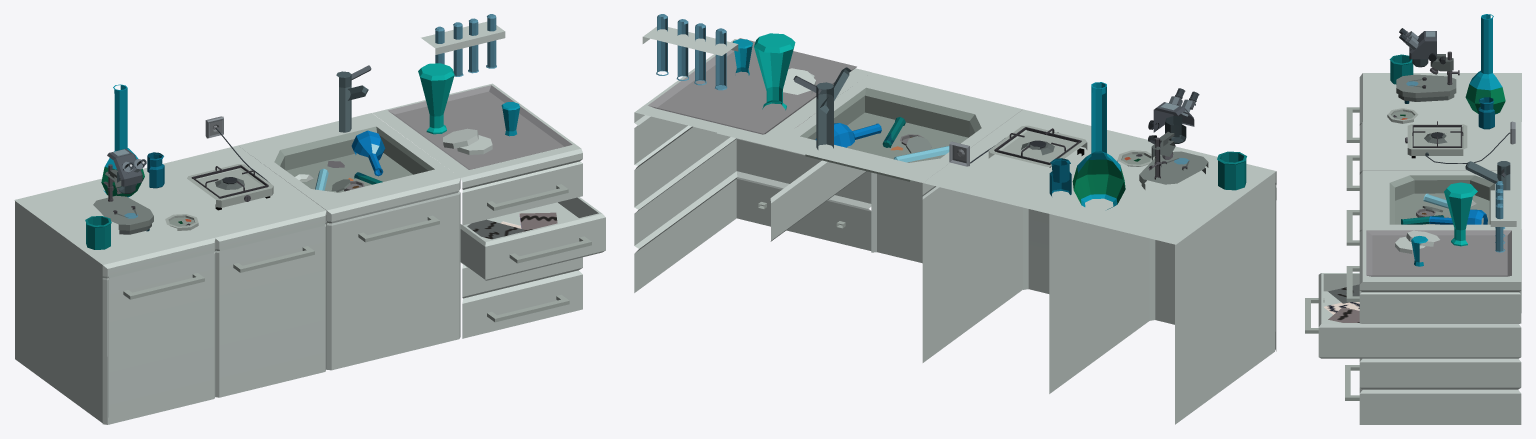
Rendered from Shelf.glb.
3 views of the same model, side by side, from view 1: azimuth 30°, elevation 25°; view 2: azimuth 150°, elevation 25°; view 3: azimuth 270°, elevation 25° (orthographic). The views are drawn at different scales.
Parts seen in each view (by area): view 1: bottom_shelf2, bottom_shelf3.001, bottom_shelf3, bottom_shelf1, bottom_shelf4, salver, base.002, big_flask.001, flask_drying, lower_base, big_flask, holder (+15 smaller); view 2: bottom_shelf2, bottom_shelf1, bottom_shelf3, bottom_shelf3.001, bottom_shelf4, salver, big_flask, flask_drying, big_flask.001, base.002, tap, lower_base (+6 smaller); view 3: bottom_shelf1, bottom_shelf2, salver, bottom_shelf3, bottom_shelf4, big_flask, base.002, lower_base, big_flask.001, holder, tap, head (+20 smaller).
Boxes of the visible parts, bbox=[...] form: bottom_shelf2: bbox=[238, 113, 460, 370]; bottom_shelf3.001: bbox=[15, 183, 215, 424]; bottom_shelf3: bbox=[141, 145, 326, 397]; bottom_shelf1: bbox=[372, 83, 605, 338]; bottom_shelf4: bbox=[14, 178, 214, 424]; salver: bbox=[388, 85, 572, 169]; base.002: bbox=[187, 164, 273, 207]; big_flask.001: bbox=[418, 63, 454, 134]; flask_drying: bbox=[435, 14, 496, 76]; lower_base: bbox=[93, 195, 153, 234]; big_flask: bbox=[101, 84, 144, 197]; holder: bbox=[421, 21, 505, 54]; bottom_shelf2: bbox=[771, 72, 1022, 362]; bottom_shelf1: bbox=[634, 39, 871, 292]; bottom_shelf3: bbox=[923, 109, 1149, 393]; bottom_shelf3.001: bbox=[1049, 141, 1275, 424]; bottom_shelf4: bbox=[1049, 141, 1276, 351]; salver: bbox=[648, 38, 856, 134]; big_flask: bbox=[1072, 82, 1125, 209]; flask_drying: bbox=[656, 14, 727, 90]; big_flask.001: bbox=[754, 33, 795, 110]; base.002: bbox=[988, 125, 1087, 166]; tap: bbox=[793, 67, 851, 158]; lower_base: bbox=[1139, 151, 1208, 189]; bottom_shelf1: bbox=[1318, 229, 1521, 424]; bottom_shelf2: bbox=[1359, 170, 1521, 312]; salver: bbox=[1366, 230, 1511, 276]; bottom_shelf3: bbox=[1359, 122, 1521, 174]; bottom_shelf4: bbox=[1359, 73, 1521, 122]; big_flask: bbox=[1465, 14, 1505, 114]; base.002: bbox=[1407, 124, 1467, 155]; lower_base: bbox=[1396, 74, 1456, 101]; big_flask.001: bbox=[1444, 182, 1477, 246]; holder: bbox=[1490, 190, 1516, 226]; tap: bbox=[1465, 161, 1510, 190]; head: bbox=[1409, 31, 1436, 59].
Size of the model in its own units: 1.07 by 0.5671 by 0.4695.
2 materials, 2 textured.
